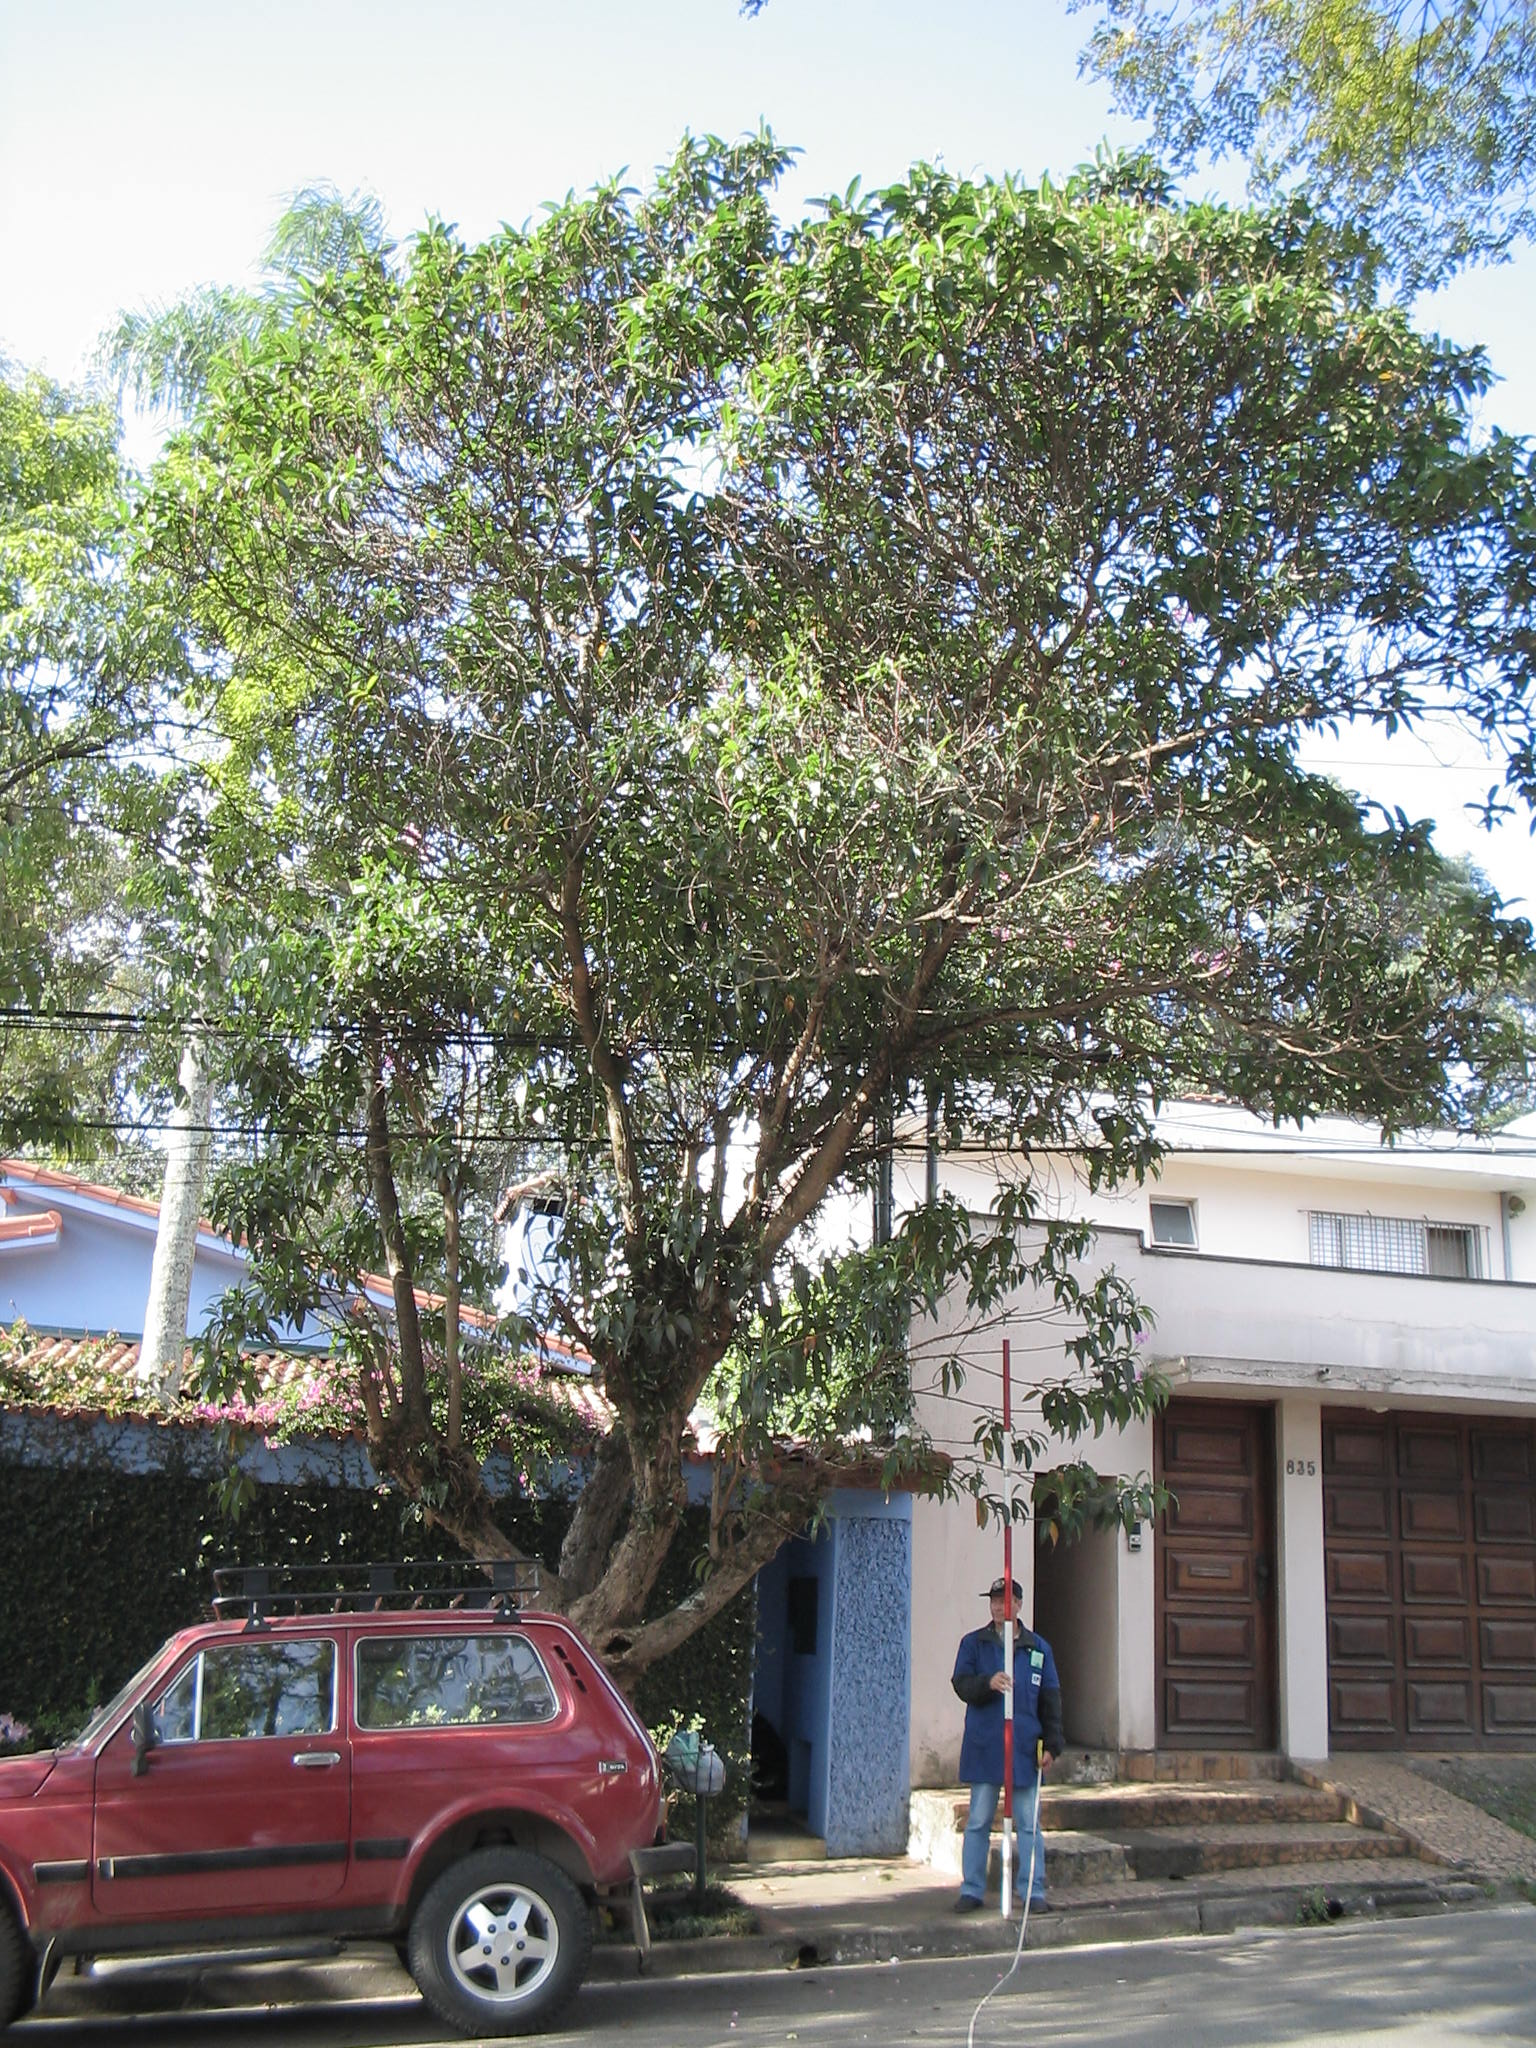crown: (106, 123, 1512, 1498)
stick: (971, 1340, 1028, 1913)
tree: (98, 123, 1517, 1917)
